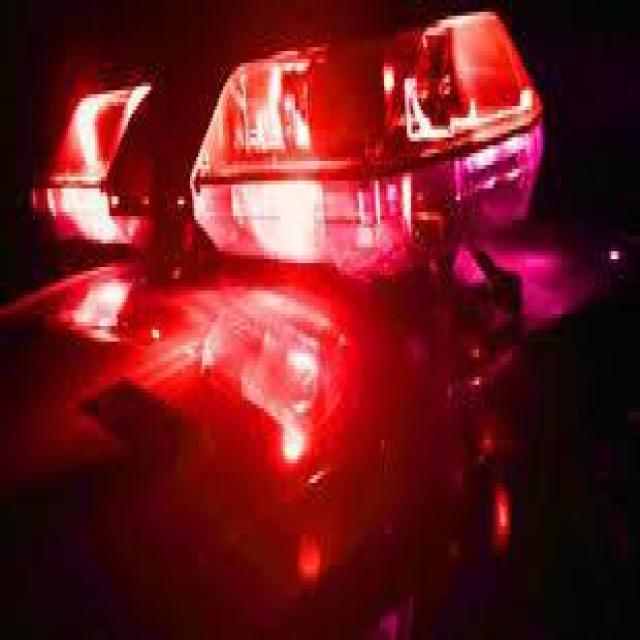other: (12, 12, 593, 576)
